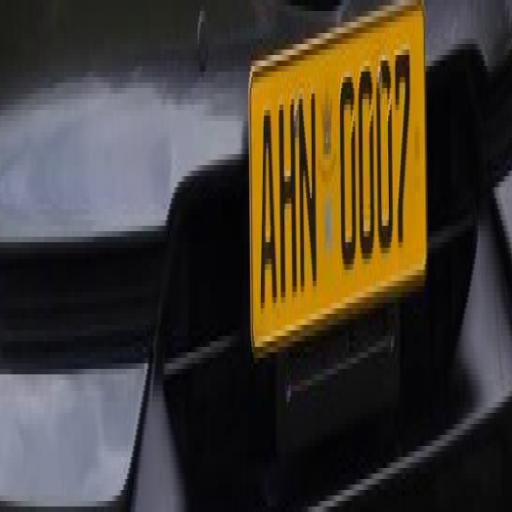number-plates: (252, 50, 432, 305)
